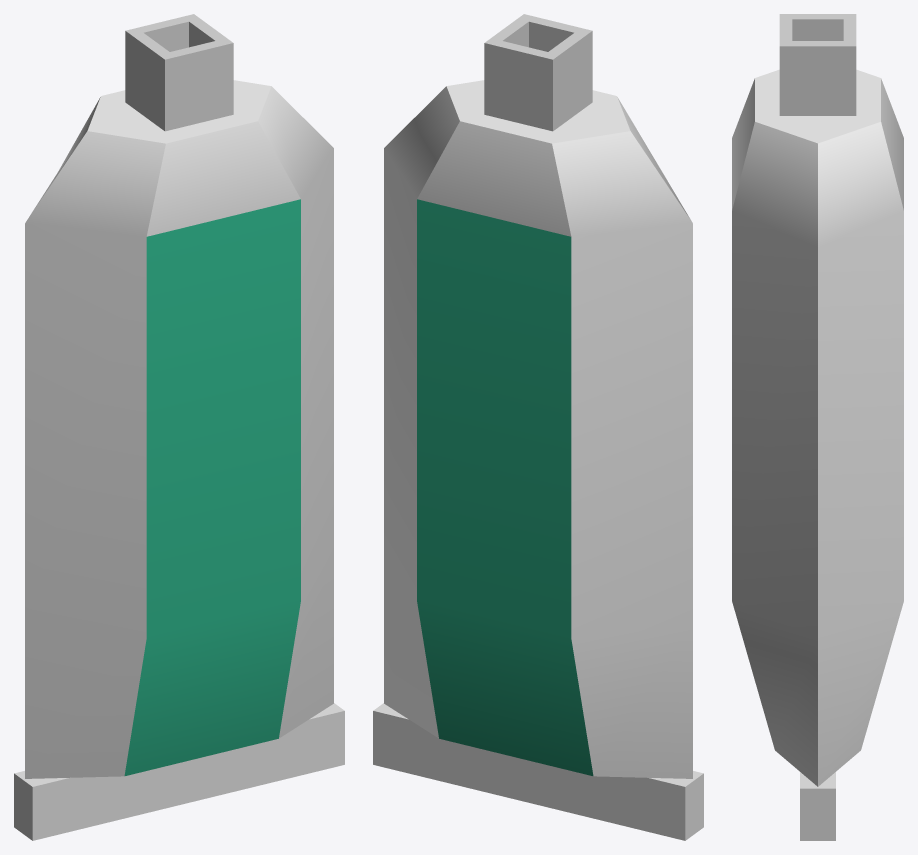
The model's file is Toothpaste_Tube_Test3.fbx.
3 views of the same model, side by side, from view 1: azimuth 30°, elevation 25°; view 2: azimuth 150°, elevation 25°; view 3: azimuth 270°, elevation 25° (orthographic). The views are drawn at different scales.
Parts seen in each view (by area): view 1: Toothpaste_Tube, pCube2, pCube3; view 2: Toothpaste_Tube, pCube2, pCube3; view 3: Toothpaste_Tube, pCube3, pCube2.
Part boxes in pixels (box(x1,y1,x2,y2)): Toothpaste_Tube: box(25, 80, 333, 778); pCube2: box(14, 703, 344, 840); pCube3: box(125, 14, 233, 131); Toothpaste_Tube: box(384, 80, 692, 778); pCube2: box(373, 703, 703, 840); pCube3: box(484, 14, 592, 131); Toothpaste_Tube: box(732, 69, 903, 786); pCube3: box(779, 14, 856, 115); pCube2: box(800, 772, 835, 840).
Bounding box in the file's own units: 16.88 × 39.22 × 8.3.
1 material, 1 textured.
